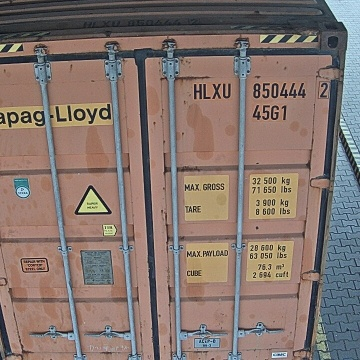serial_id: (194, 82, 329, 99)
